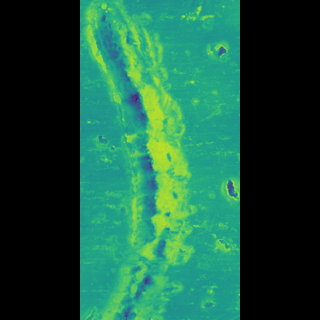Loch: (121, 0, 178, 320), (160, 0, 188, 29), (181, 218, 198, 256), (181, 37, 198, 70), (190, 174, 199, 204)
